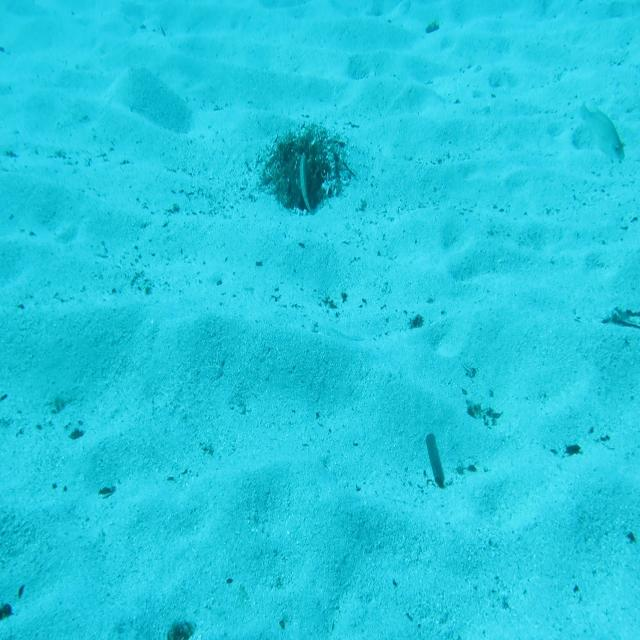FAN: (297, 150, 320, 217)
female: (578, 94, 628, 172)
nest: (262, 130, 356, 213)
vegetation: (421, 431, 441, 485), (605, 310, 640, 330), (166, 616, 194, 640), (425, 20, 441, 34)
